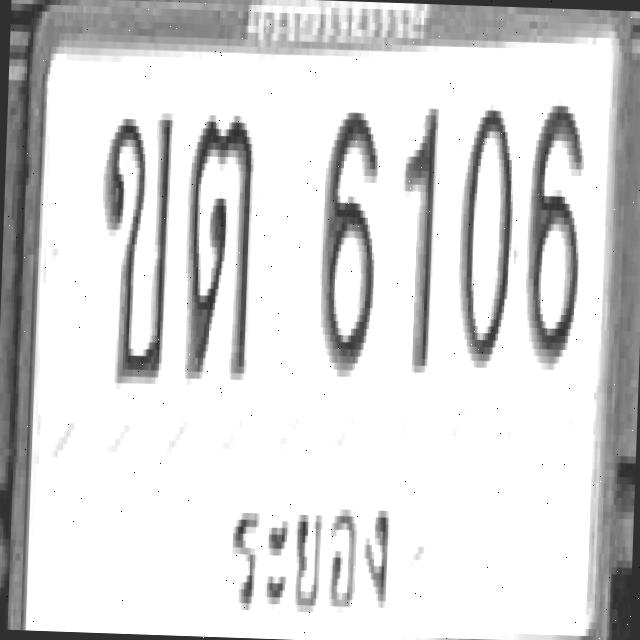0: (453, 95, 516, 368)
1: (394, 100, 440, 373)
11KhorKhai: (94, 107, 174, 388)
30TorTao: (182, 107, 256, 380)
6: (316, 101, 379, 374), (522, 98, 584, 364)
Rayong: (219, 467, 407, 635)
